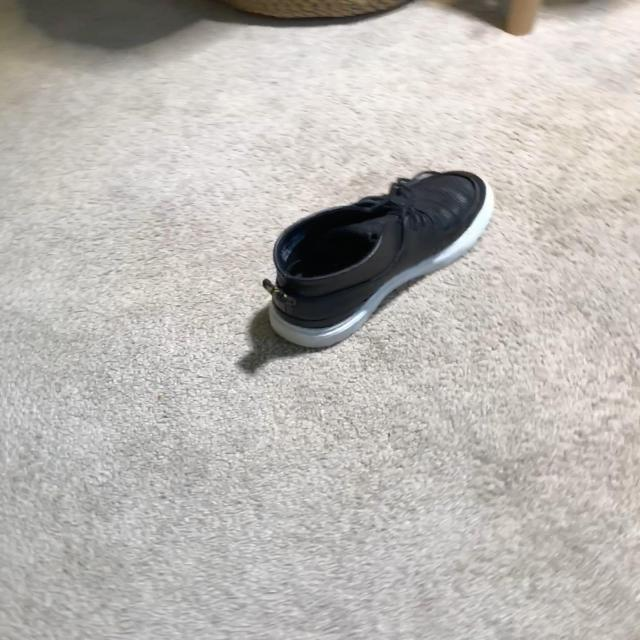shoe: (262, 171, 494, 352)
